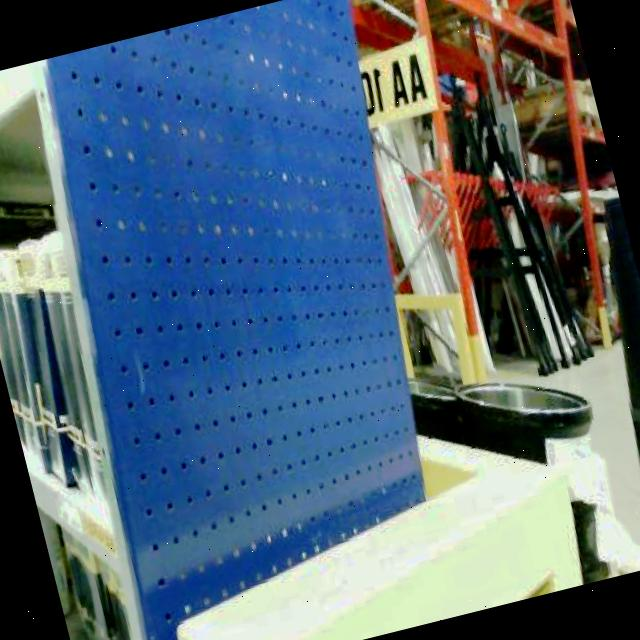ground: (404, 310, 640, 612)
pallet: (340, 0, 640, 400), (483, 0, 640, 356)
